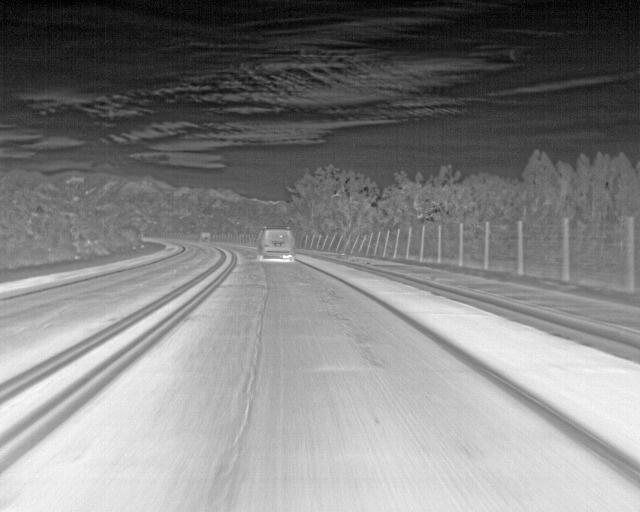car: (256, 225, 296, 264), (196, 232, 213, 245)
